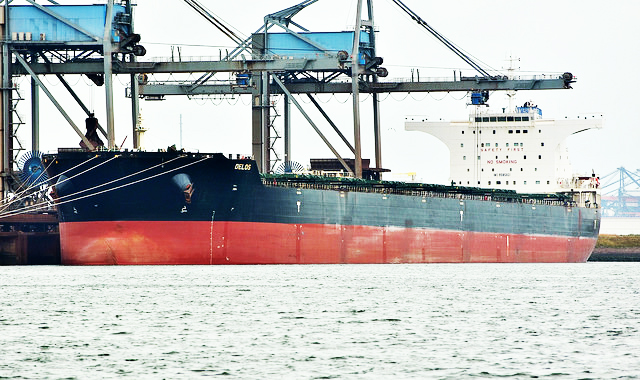bulk carrier: (42, 86, 602, 263)
